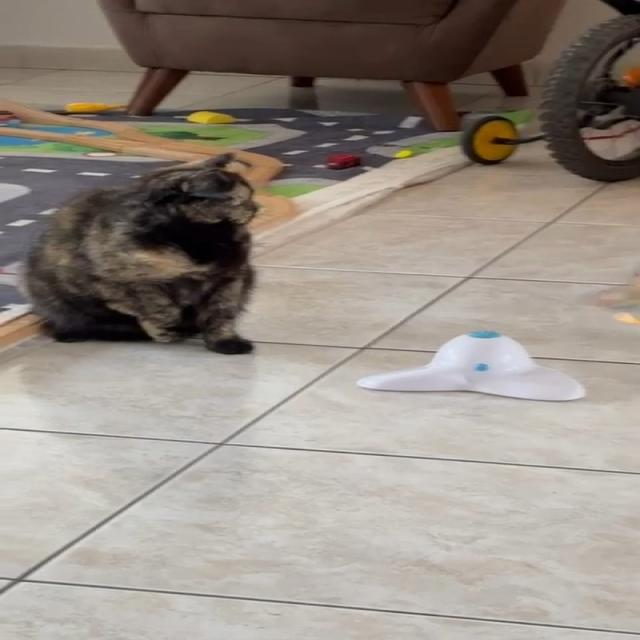authorized: (17, 152, 260, 354)
